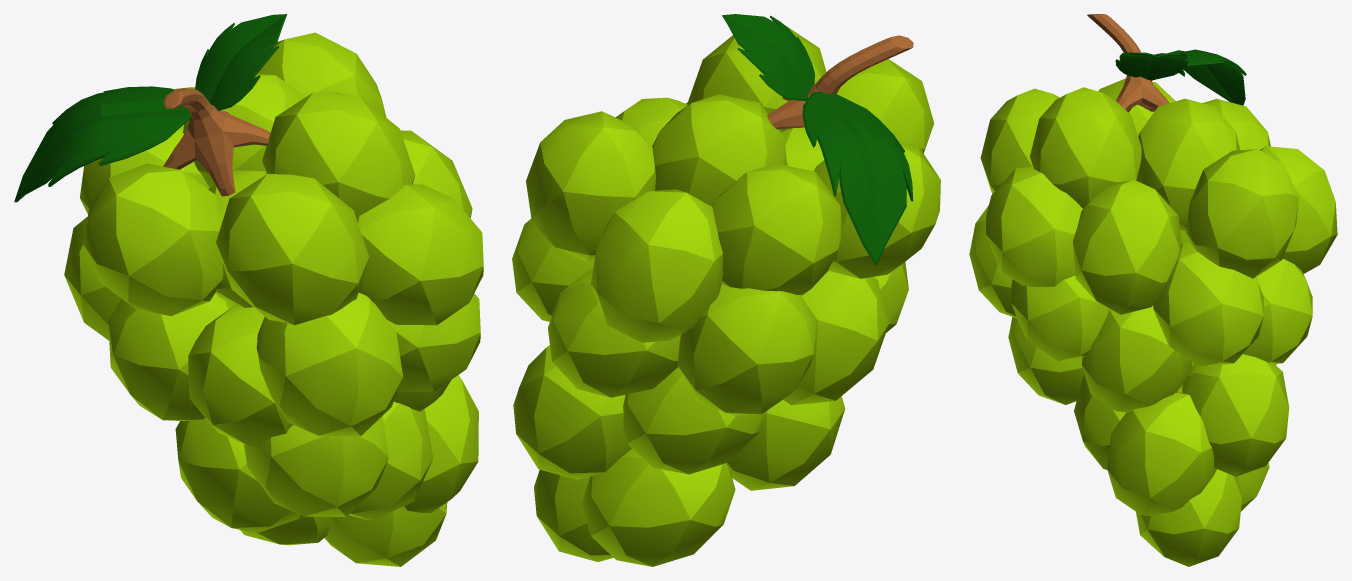
Rendered from RacimoVerde.fbx.
The picture shows the model from 3 angles, left to right: view 1: azimuth 30°, elevation 25°; view 2: azimuth 150°, elevation 25°; view 3: azimuth 270°, elevation 25°; orthographic projection. The views are drawn at different scales.
Visible parts, largest first — view 1: UvaVerdeRacimo; view 2: UvaVerdeRacimo; view 3: UvaVerdeRacimo.
Boxes of the visible parts, x1,y1,x2,y2 form: UvaVerdeRacimo: (14,14,483,566); UvaVerdeRacimo: (512,14,940,566); UvaVerdeRacimo: (969,14,1337,566).
Size of the model in its own units: 8.47 by 11.72 by 8.52.
